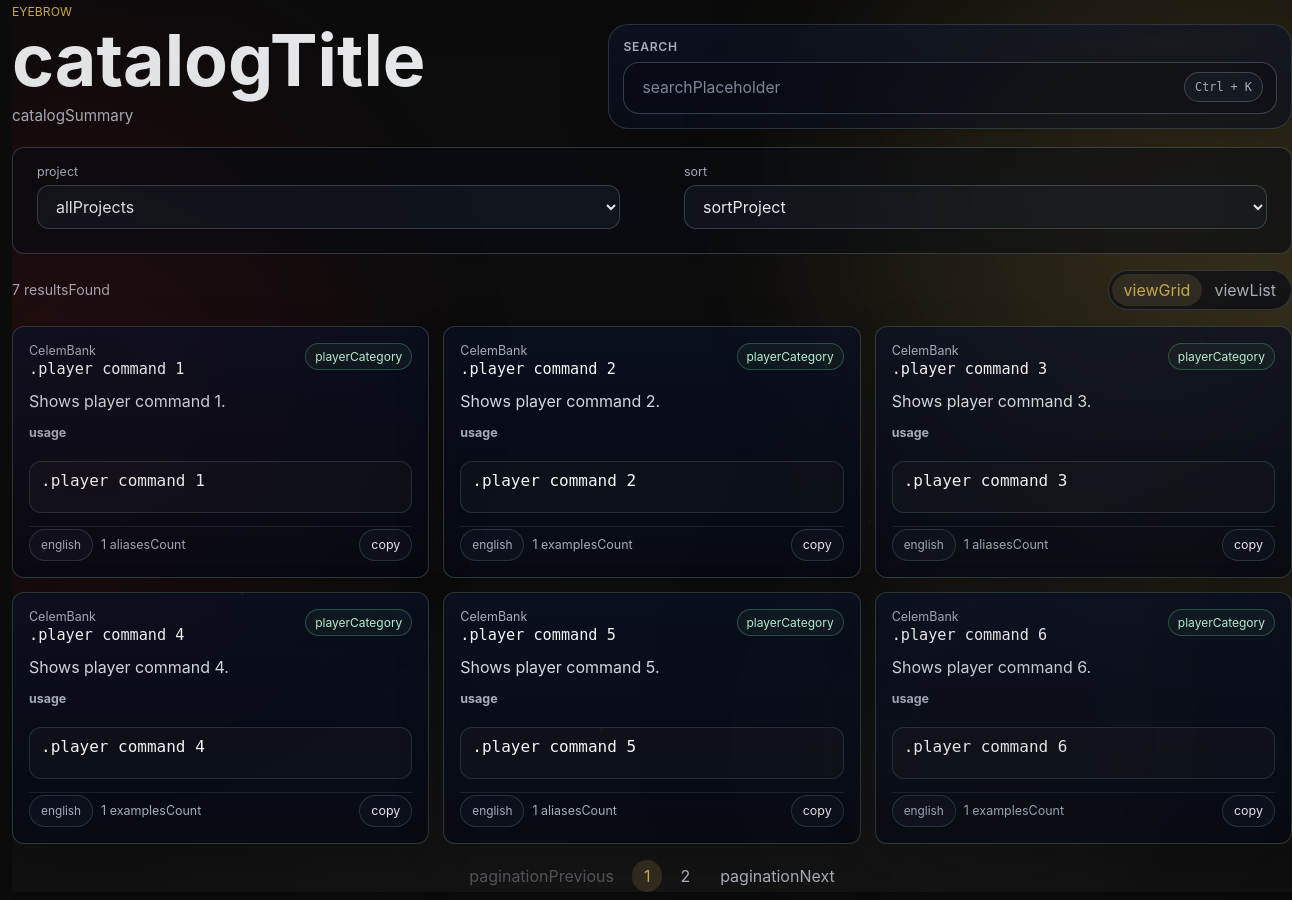
CommandCatalogComponent › paginates the catalog with six cards per page
expect the text ".player command 7" is not shown: met
Click the button "paginationNext" at (777, 876), box [708, 860, 847, 892]
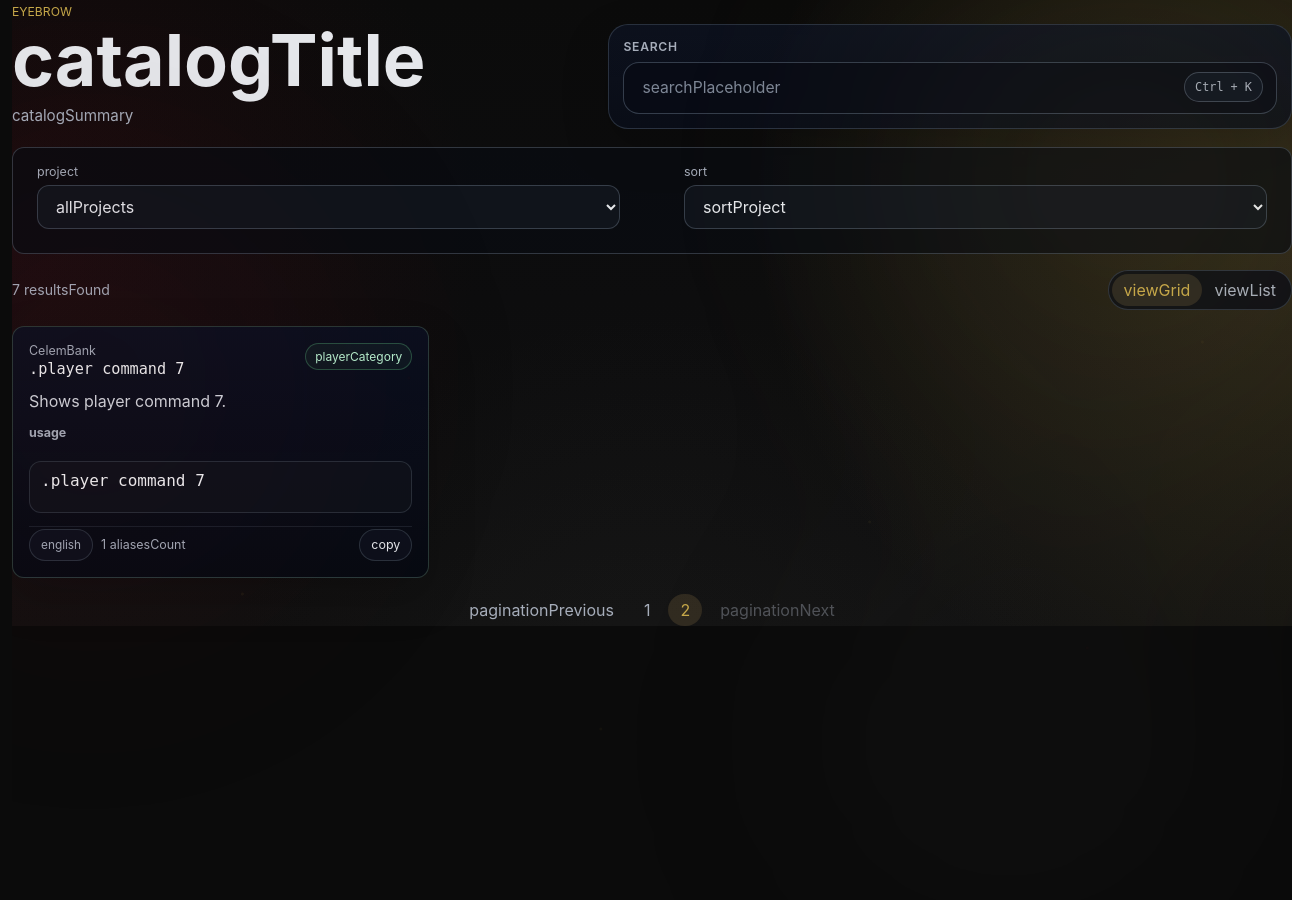
expect the text ".player command 7" is shown: met, box [29, 360, 184, 378]
